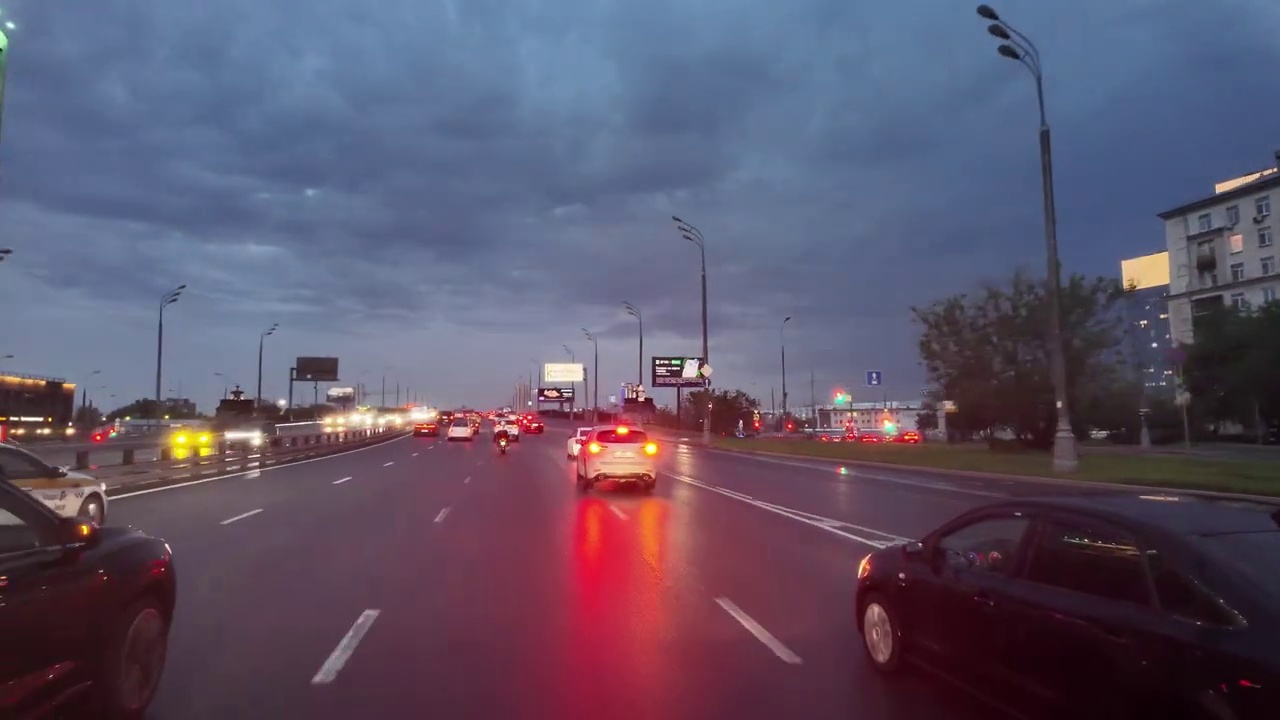acesa: (1122, 252, 1170, 292)
apagada: (974, 9, 1021, 64), (617, 288, 643, 324), (668, 215, 691, 243), (165, 282, 188, 307)
